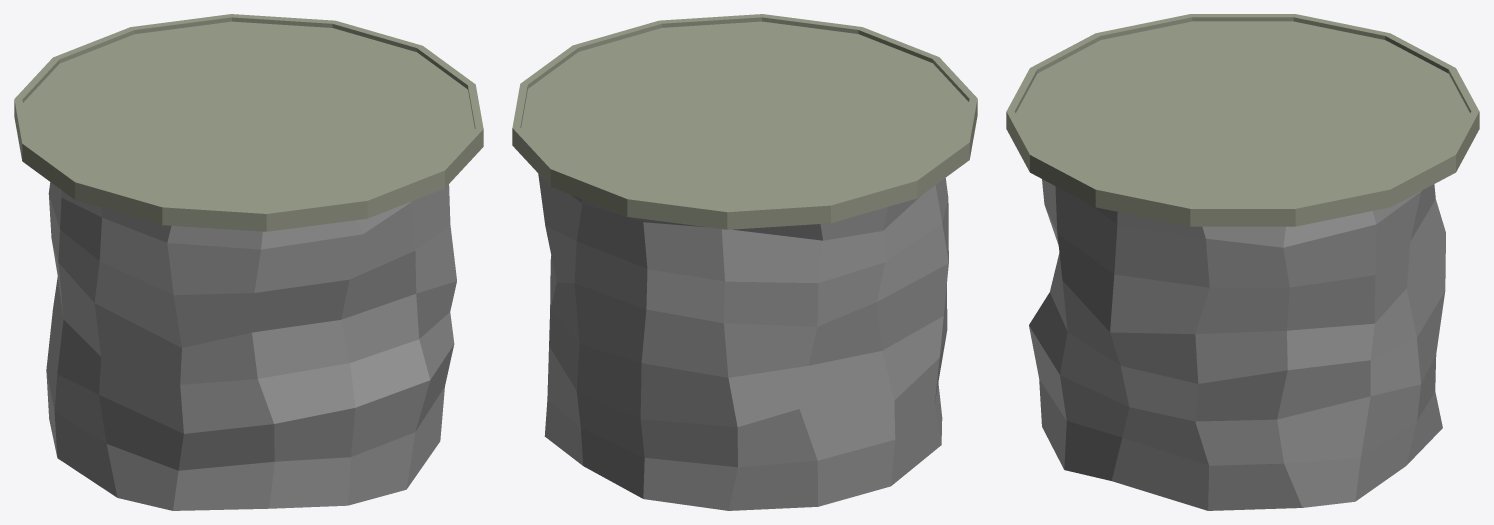
The model's file is Arena.fbx.
3 renders of one model, left to right at view 1: azimuth 30°, elevation 25°; view 2: azimuth 150°, elevation 25°; view 3: azimuth 270°, elevation 25°, orthographic.
Parts seen in each view (by area): view 1: Cylinder; view 2: Cylinder; view 3: Cylinder.
Part boxes in pixels (<box>): Cylinder: <box>14,14,483,510</box>; Cylinder: <box>512,14,977,510</box>; Cylinder: <box>1006,14,1479,510</box>.
Bounding box in the file's own units: 195 × 152 × 200.
